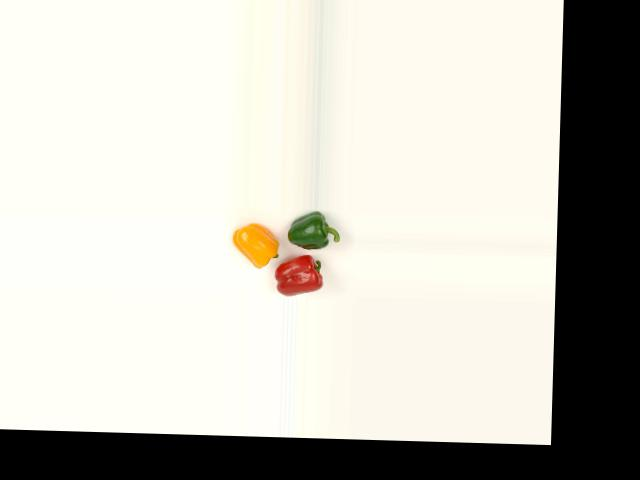bell_pepper: (286, 210, 342, 252)
